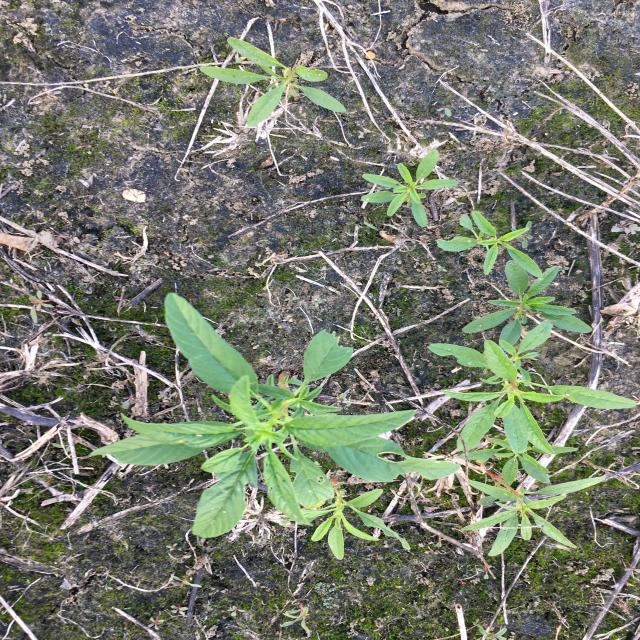Waterhemp: (86, 292, 462, 540), (425, 339, 638, 456), (198, 37, 348, 128), (459, 470, 608, 557), (462, 259, 594, 355), (285, 472, 414, 562), (360, 149, 460, 228), (435, 210, 545, 279)
